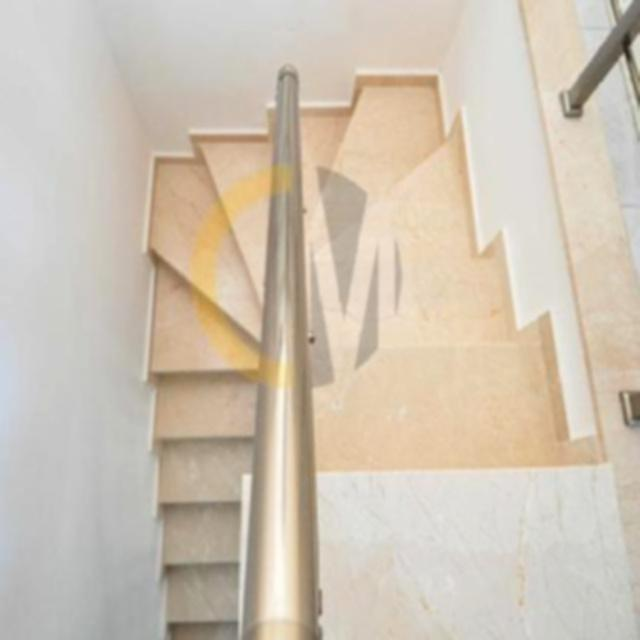stair: (112, 56, 612, 638)
